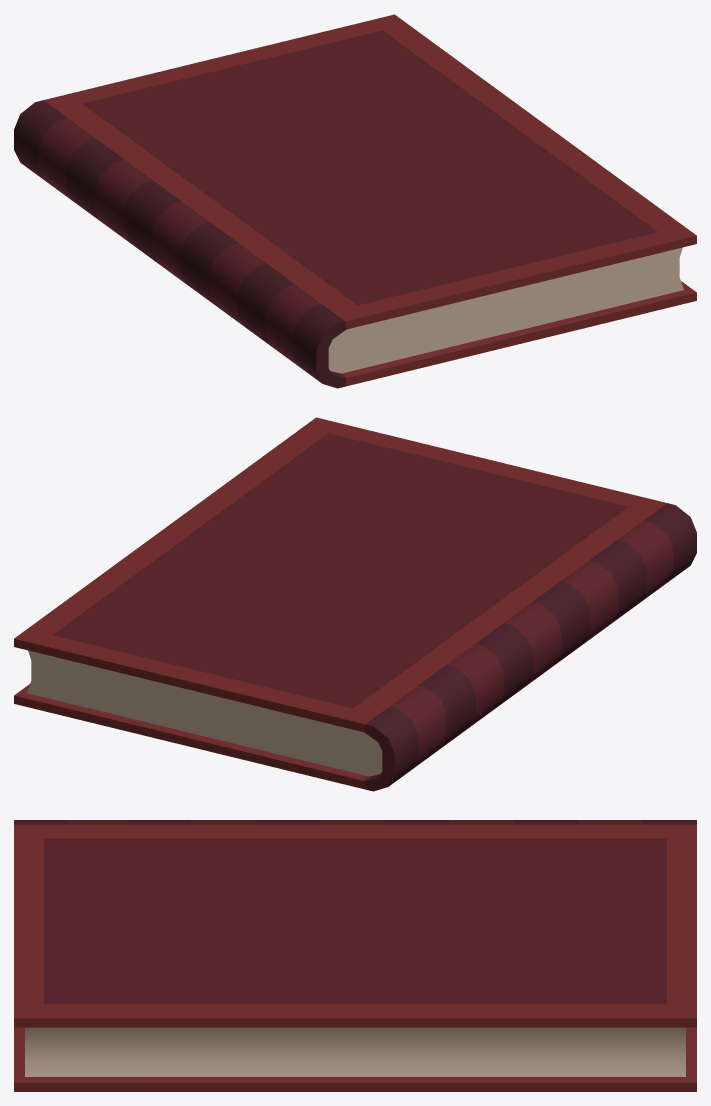
Rendered from Book_10.fbx.
The picture shows the model from 3 angles, top to bottom: view 1: azimuth 30°, elevation 25°; view 2: azimuth 150°, elevation 25°; view 3: azimuth 270°, elevation 25°; orthographic projection. The views are drawn at different scales.
Visible parts, largest first — view 1: Book_10; view 2: Book_10; view 3: Book_10.
Boxes of the visible parts, x1,y1,x2,y2 form: Book_10: (14, 14, 696, 388); Book_10: (14, 417, 696, 791); Book_10: (14, 820, 696, 1091).
Bounding box in the file's own units: 0.2383 × 0.039 × 0.3277.
